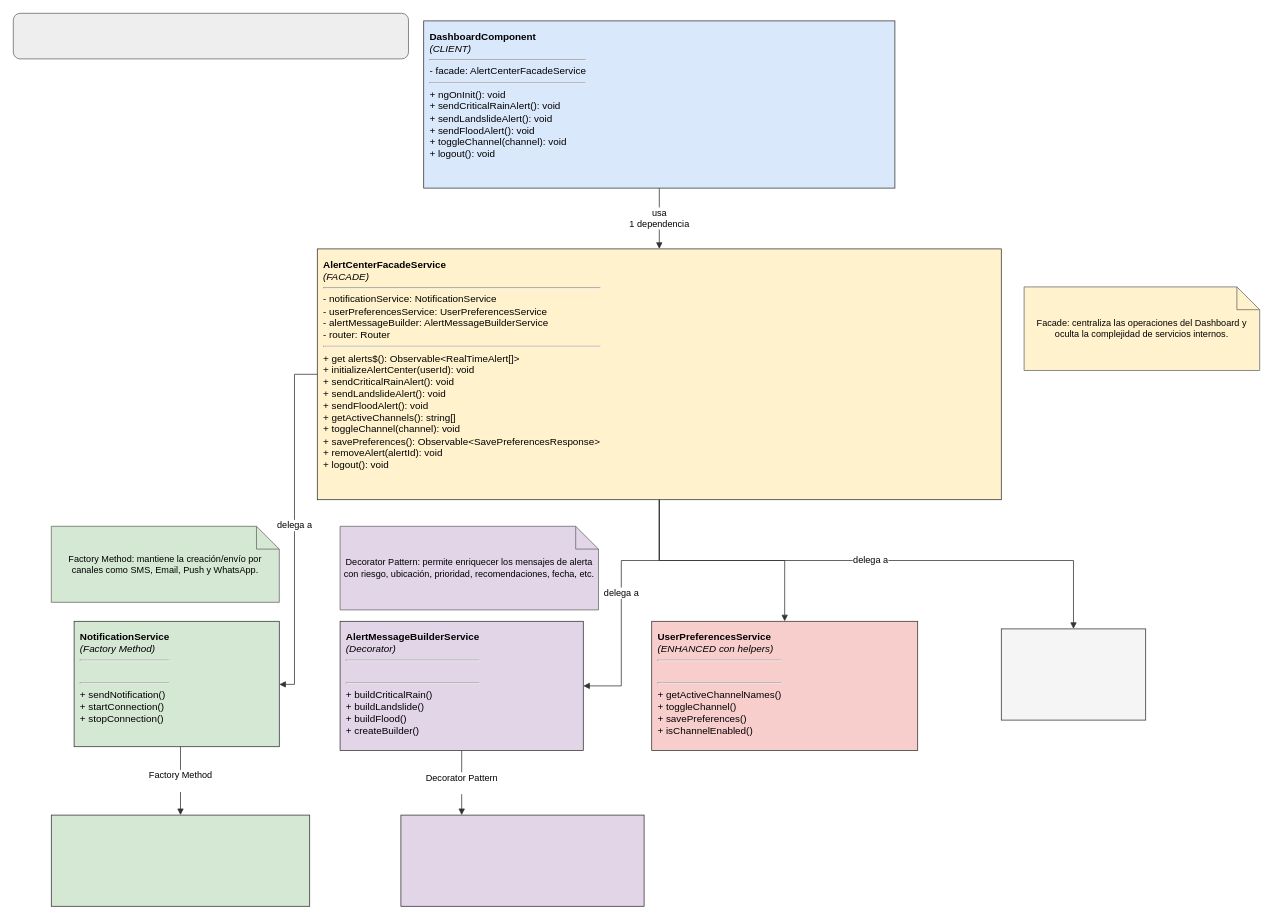
Image size: 1273x920. Some labels were removed from this diagram. Here are the shapes that lost their labels. From the top down, the box of each, then its label:
(13, 13, 408, 59): Patrones aplicados: Facade + Factory Method + Decorator
(1001, 628, 1146, 720): Router + navigate
(51, 814, 310, 906): Channels (SMS, Email, Push, WhatsApp) via NotificationChannelCreator
(400, 814, 644, 906): Decorators (RiskLevel, Location, etc)
